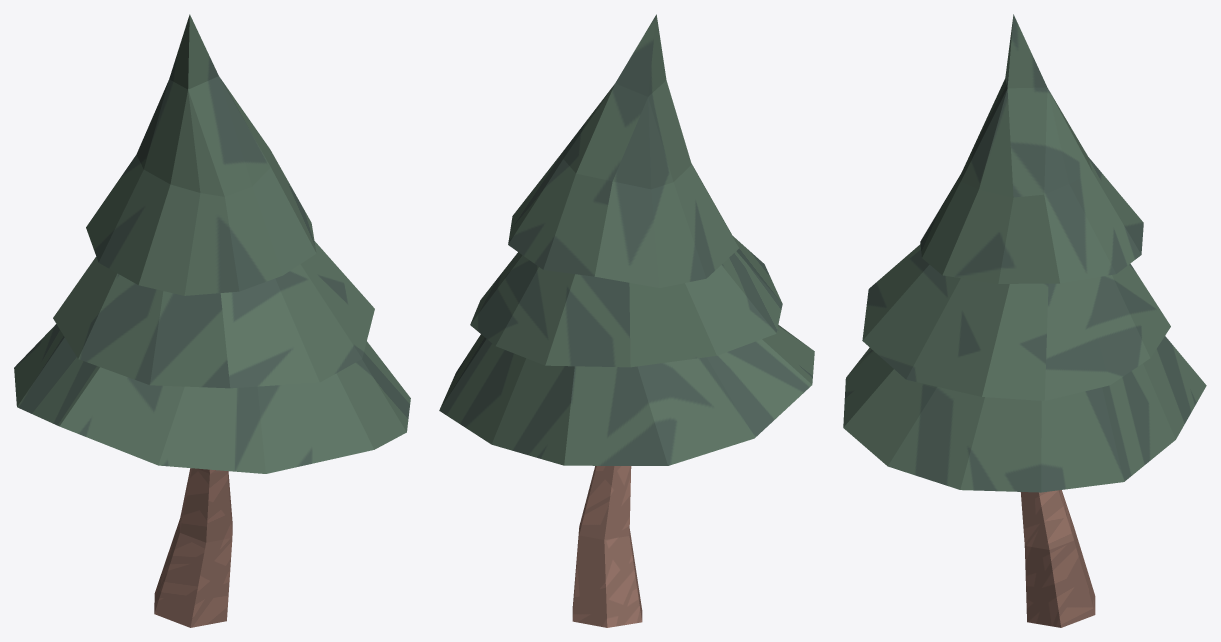
The model's file is msh_TreePine03.fbx.
The picture shows the model from 3 angles, left to right: view 1: azimuth 30°, elevation 25°; view 2: azimuth 150°, elevation 25°; view 3: azimuth 270°, elevation 25°; orthographic projection. The views are drawn at different scales.
Visible parts, largest first — view 1: Cube.036, Cube.035, Cube.034, Cylinder.004; view 2: Cube.035, Cube.036, Cube.034, Cylinder.004; view 3: Cube.035, Cube.034, Cube.036, Cylinder.004.
Boxes of the visible parts, box(x1,y1,x2,y2) form: Cube.036: box(86, 14, 316, 295); Cube.035: box(14, 324, 410, 473); Cube.034: box(53, 241, 374, 388); Cylinder.004: box(154, 468, 232, 627); Cube.035: box(439, 325, 814, 465); Cube.036: box(508, 14, 738, 287); Cube.034: box(470, 236, 782, 367); Cylinder.004: box(572, 466, 642, 627); Cube.035: box(843, 336, 1206, 492); Cube.034: box(862, 244, 1170, 400); Cube.036: box(920, 14, 1143, 283); Cylinder.004: box(1020, 490, 1095, 627).
Bounding box in the file's own units: 252 × 439 × 246.
